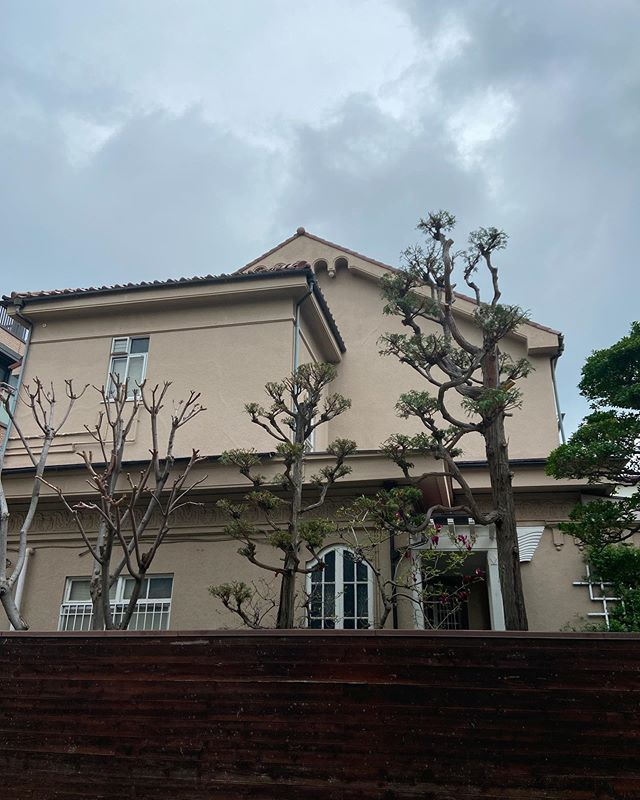building: (1, 228, 559, 643)
sky: (1, 1, 615, 288)
tree: (388, 211, 547, 628), (208, 364, 363, 629), (46, 360, 201, 625), (324, 491, 452, 630)
